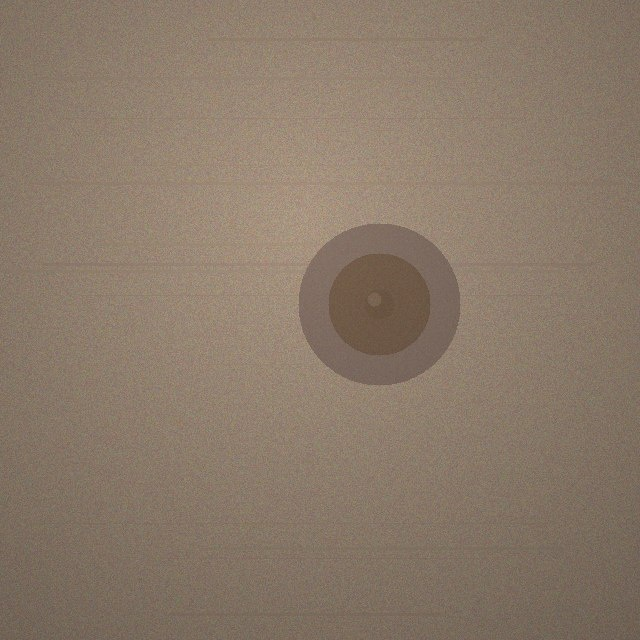good: (298, 223, 460, 385)
